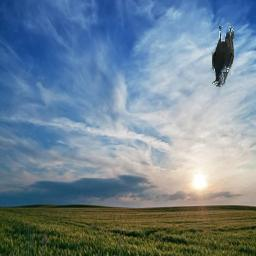Crow: (212, 27, 234, 88)
